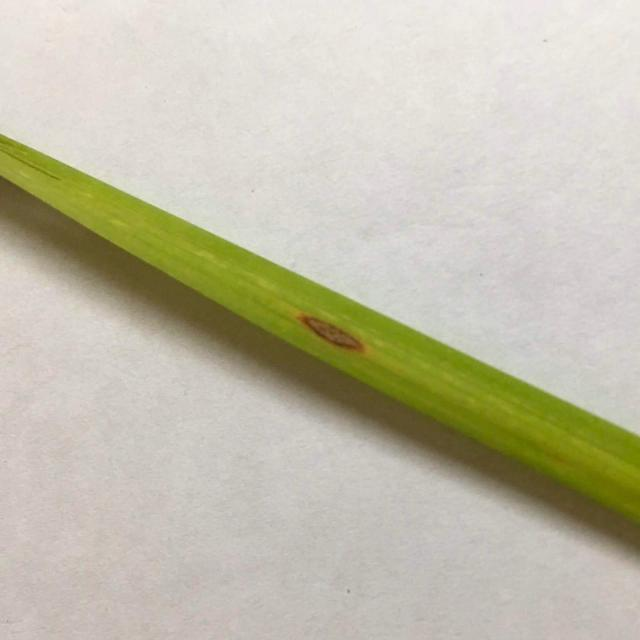Leaf_Blast: (253, 273, 406, 405)
